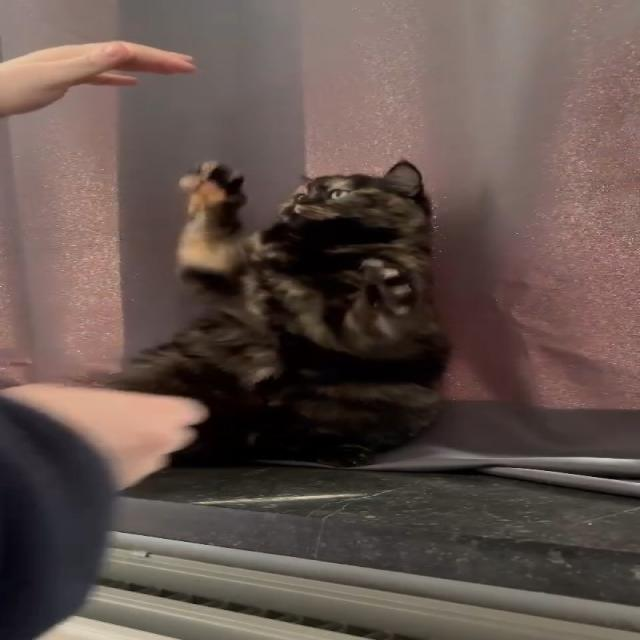authorized: (100, 158, 453, 468)
